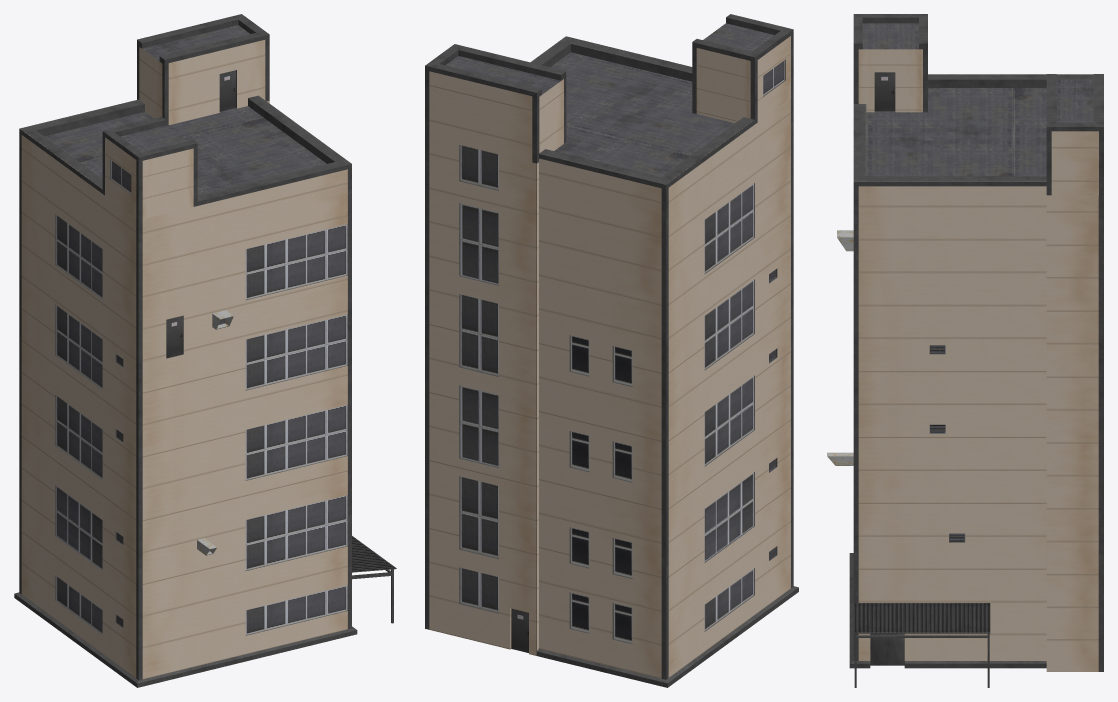
Rendered from plant-building9.glb.
3 renders of one model, left to right at view 1: azimuth 30°, elevation 25°; view 2: azimuth 150°, elevation 25°; view 3: azimuth 270°, elevation 25°, orthographic. The views are drawn at different scales.
Visible parts, largest first — view 1: Object8932803; view 2: Object8932803; view 3: Object8932803.
Part boxes in pixels (left/top/right/bottom): Object8932803: left=14, top=14, right=396, bottom=687; Object8932803: left=425, top=14, right=798, bottom=687; Object8932803: left=827, top=14, right=1103, bottom=687.
Size of the model in its own units: 0.1634 by 0.3155 by 0.1452.
Materials: 1 (1 with a texture image).
